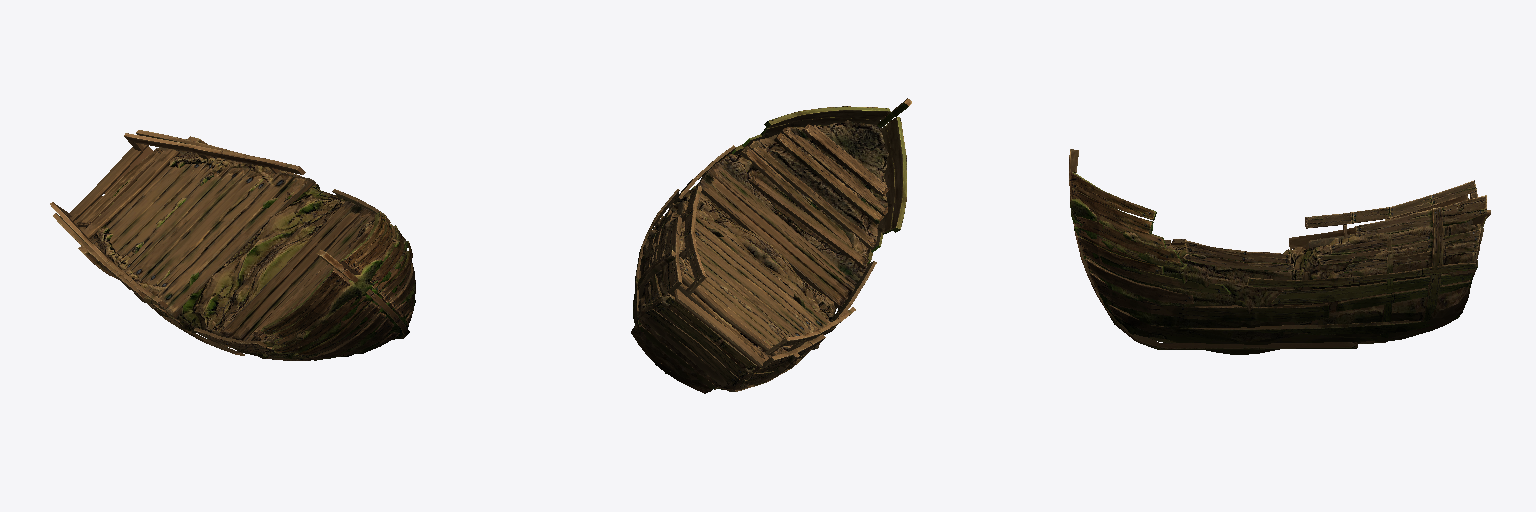
3 renders of one model, left to right at view 1: azimuth 30°, elevation 25°; view 2: azimuth 150°, elevation 25°; view 3: azimuth 270°, elevation 25°, orthographic.
Visible parts, largest first — view 1: Galleon_Shipwreck_Galleon_Shipwreck.001; view 2: Galleon_Shipwreck_Galleon_Shipwreck.001; view 3: Galleon_Shipwreck_Galleon_Shipwreck.001.
Boxes of the visible parts, <box> form: Galleon_Shipwreck_Galleon_Shipwreck.001: <box>50,130,415,360</box>; Galleon_Shipwreck_Galleon_Shipwreck.001: <box>631,98,911,393</box>; Galleon_Shipwreck_Galleon_Shipwreck.001: <box>1069,149,1490,354</box>.
Bounding box in the file's own units: 4.34 × 3.28 × 7.
1 materials, 1 textured.